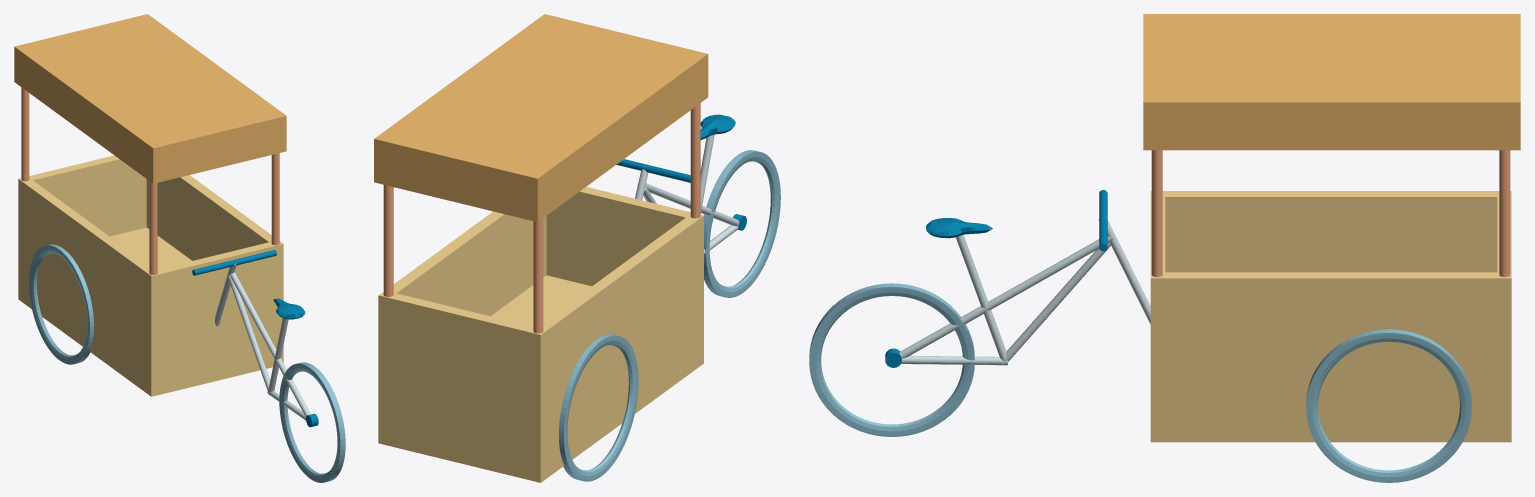
Rendered from TransportBike.fbx.
3 renders of one model, left to right at view 1: azimuth 30°, elevation 25°; view 2: azimuth 150°, elevation 25°; view 3: azimuth 270°, elevation 25°, orthographic. The views are drawn at different scales.
Visible parts, largest first — view 1: Circle.009; view 2: Circle.009; view 3: Circle.009.
Part boxes in pixels (<box>): Circle.009: <box>14,14,345,482</box>; Circle.009: <box>374,14,780,482</box>; Circle.009: <box>809,14,1520,482</box>.
Size of the model in its own units: 80.02 by 150 by 256.
